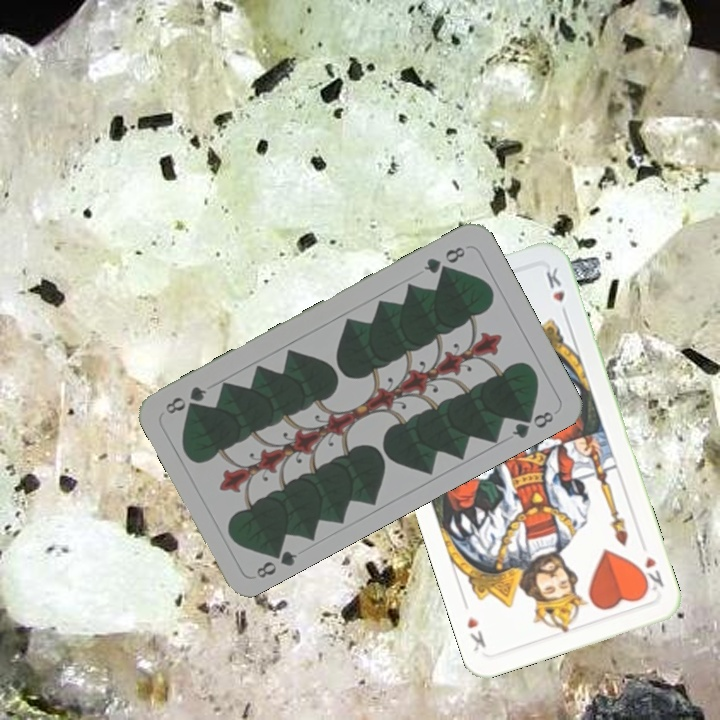G8: (252, 541, 300, 581), (419, 242, 468, 277)
HK: (634, 552, 667, 595)
